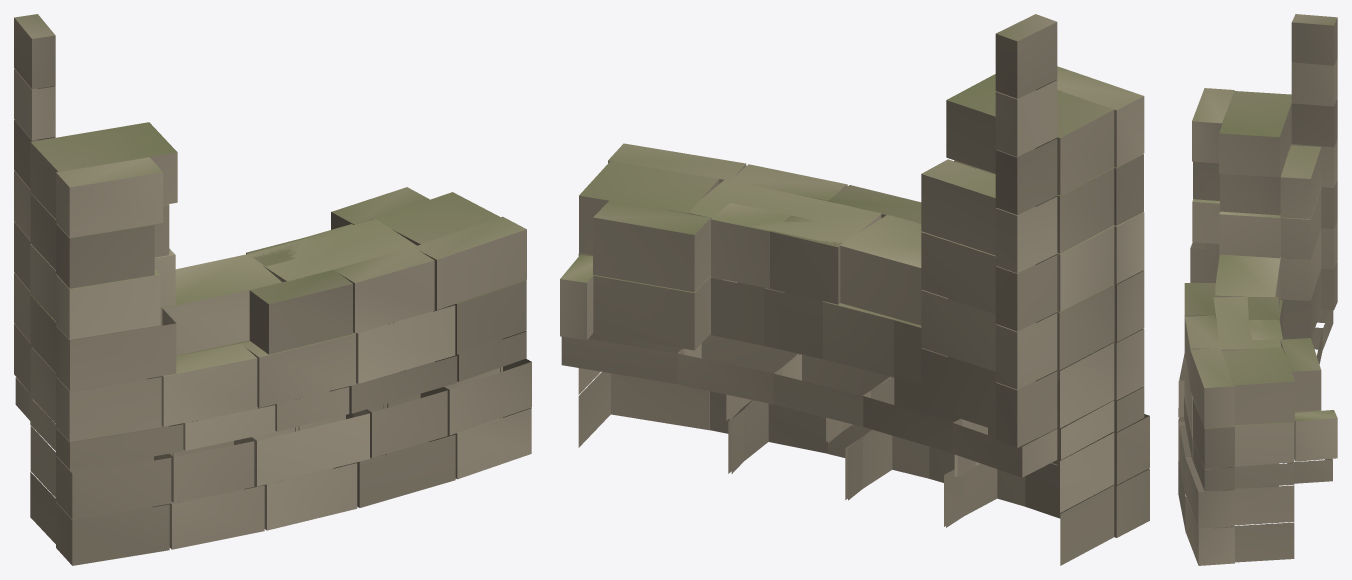
Rendered from dome_drum_bm1_mid.glb.
3 renders of one model, left to right at view 1: azimuth 30°, elevation 25°; view 2: azimuth 150°, elevation 25°; view 3: azimuth 270°, elevation 25°, orthographic. The views are drawn at different scales.
Parts seen in each view (by area): view 1: dome_drum_bm1_mid; view 2: dome_drum_bm1_mid; view 3: dome_drum_bm1_mid.
Part boxes in pixels (x1=…): dome_drum_bm1_mid: x1=14, y1=14, x2=531, y2=565; dome_drum_bm1_mid: x1=560, y1=14, x2=1149, y2=565; dome_drum_bm1_mid: x1=1178, y1=14, x2=1337, y2=565.
Bounding box in the file's own units: 20.71 × 20.57 × 7.8.
